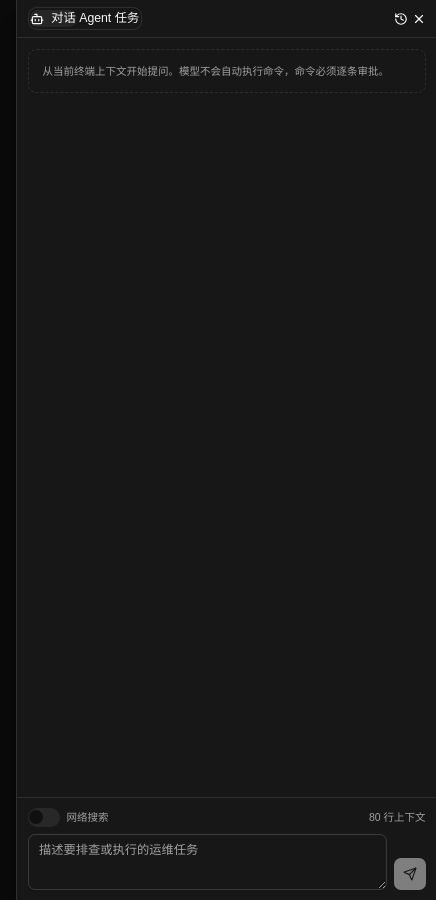
AITerminalPanel › keeps the newest conversation when history clicks resolve out of order
Click the button named "对话历史" at {"x": 401, "y": 18}, box [394, 12, 408, 26]
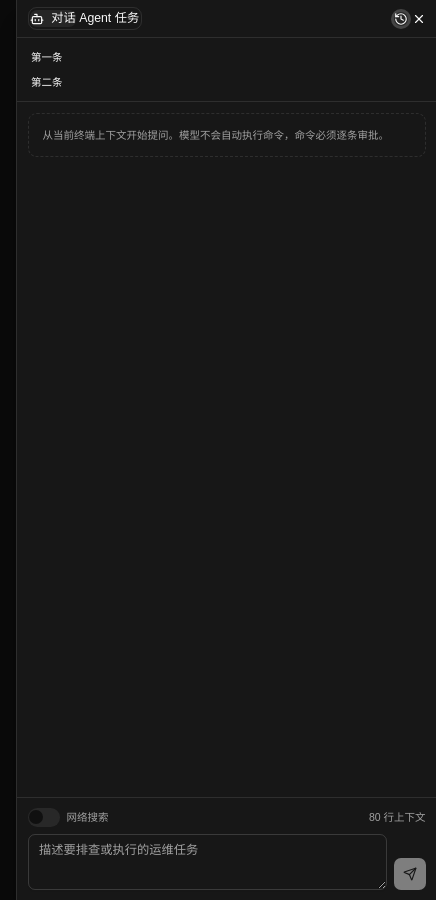
Click the button "第一条" at {"x": 47, "y": 57}, box [24, 45, 429, 70]
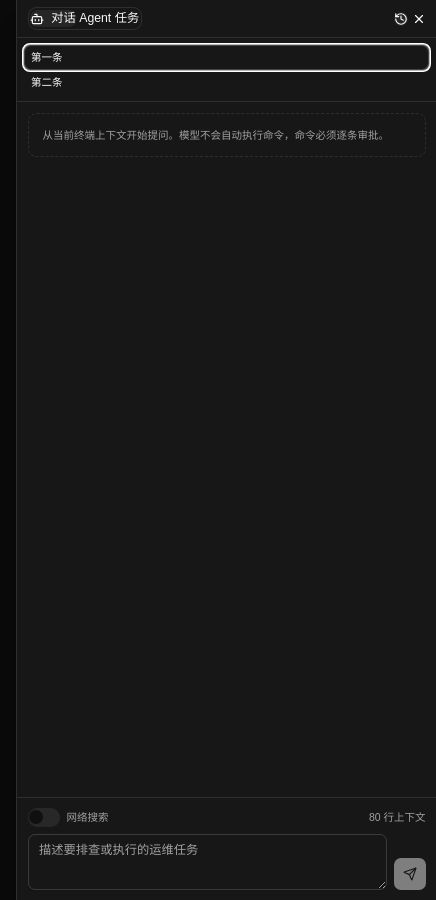
Click the button "第二条" at {"x": 47, "y": 82}, box [24, 70, 429, 94]
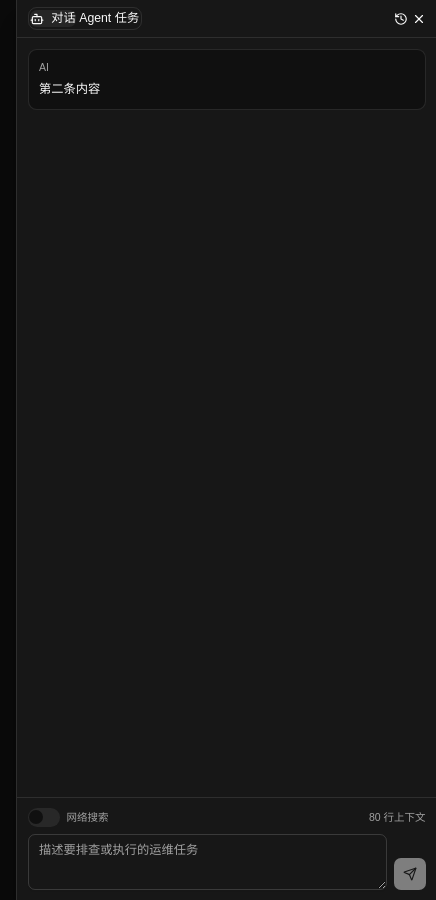
Check: the text "第二条内容" is shown, box [39, 82, 100, 96]
